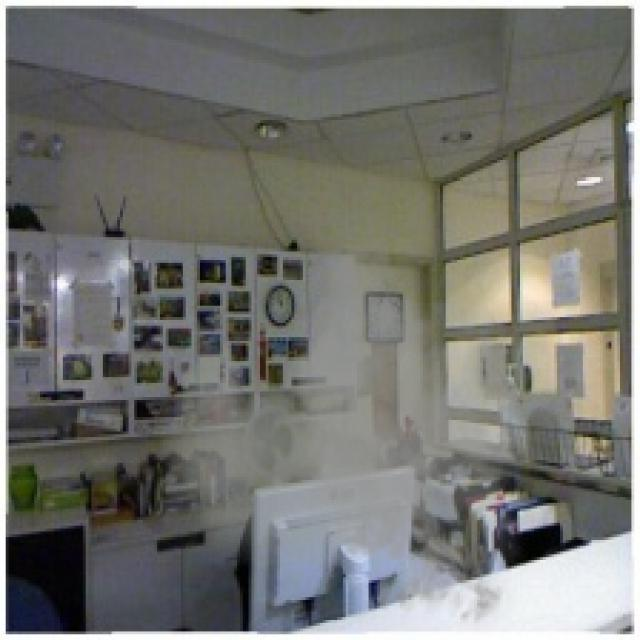Smoke: (154, 228, 557, 638)
